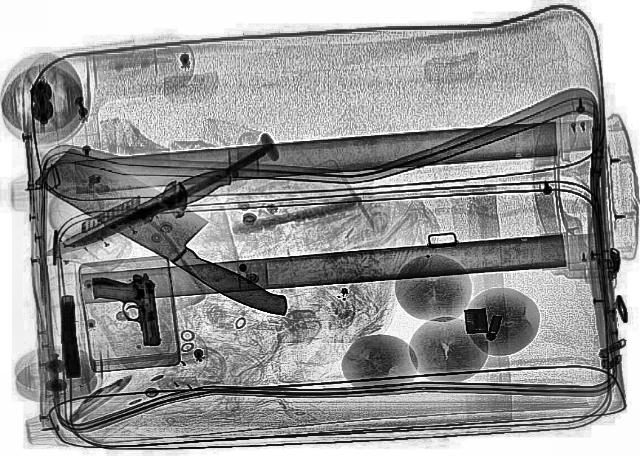Gun: (90, 272, 158, 348), (54, 296, 84, 376)
Knife: (19, 145, 324, 321), (60, 141, 284, 253), (27, 163, 240, 265)
